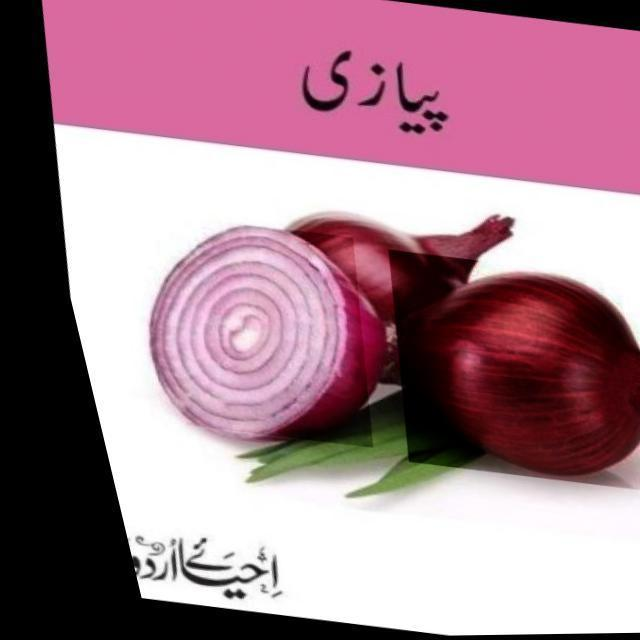Onion: (346, 247, 640, 504), (87, 208, 380, 451)
